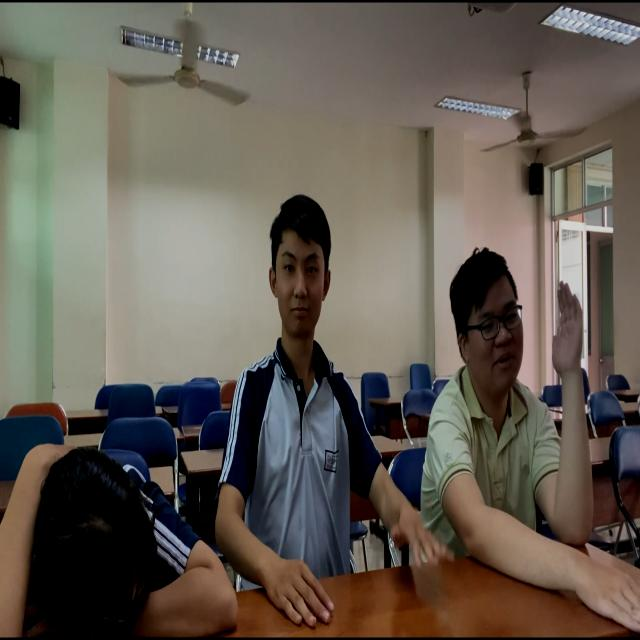raise_hand: (433, 244, 601, 569)
sleep: (1, 435, 234, 640)
